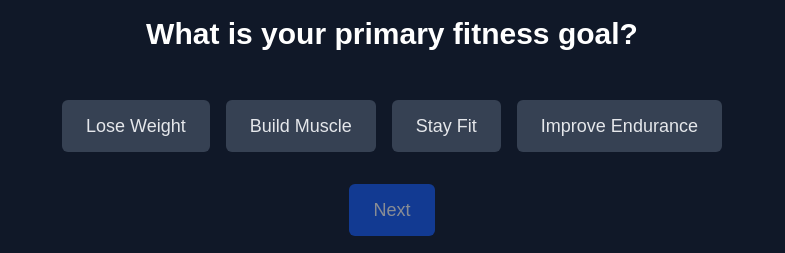
Test: OnboardingPage › allows going back to previous steps
expect the heading "What is your primary fitness goal?" is shown: met, box [146,16,638,52]
Click the button "Lose Weight" at point(136, 126), box [62,100,210,152]
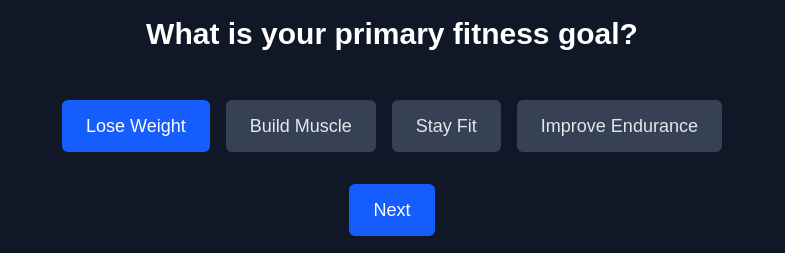
Click the button "Next" at point(392, 210), box [350,184,434,236]
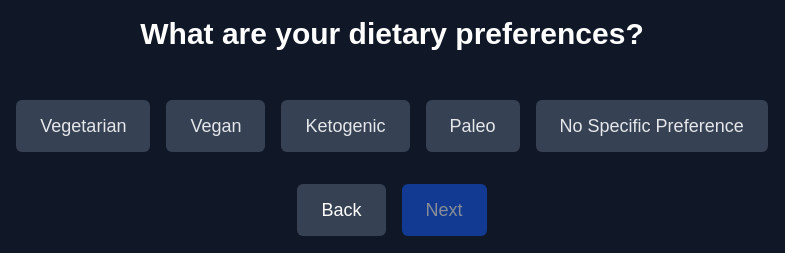
expect the heading "What are your dietary preferences?" is shown: met, box [140,16,644,52]
# Go back to Step 1
Click the button "Back" at point(342, 210), box [298,184,386,236]
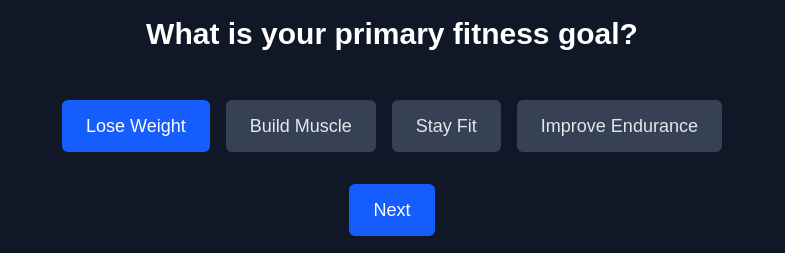
expect the heading "What is your primary fitness goal?" is shown: met, box [146,16,638,52]
